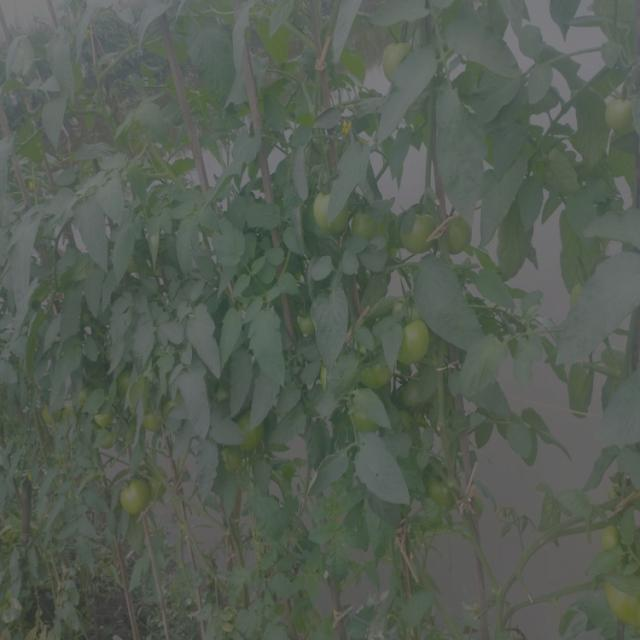tomato: (594, 570, 640, 628), (377, 34, 428, 81), (313, 178, 349, 241), (396, 208, 438, 259), (392, 320, 436, 365), (113, 472, 151, 518), (234, 409, 272, 455), (441, 215, 477, 256), (348, 209, 384, 248), (428, 472, 464, 511), (605, 95, 640, 132), (346, 402, 382, 436), (360, 358, 391, 394), (395, 378, 427, 411), (120, 372, 148, 404), (93, 428, 123, 457), (139, 404, 161, 438), (600, 527, 626, 555), (298, 314, 322, 344), (89, 403, 118, 426), (223, 454, 244, 471), (320, 367, 333, 390), (38, 410, 55, 426), (72, 390, 89, 405)
